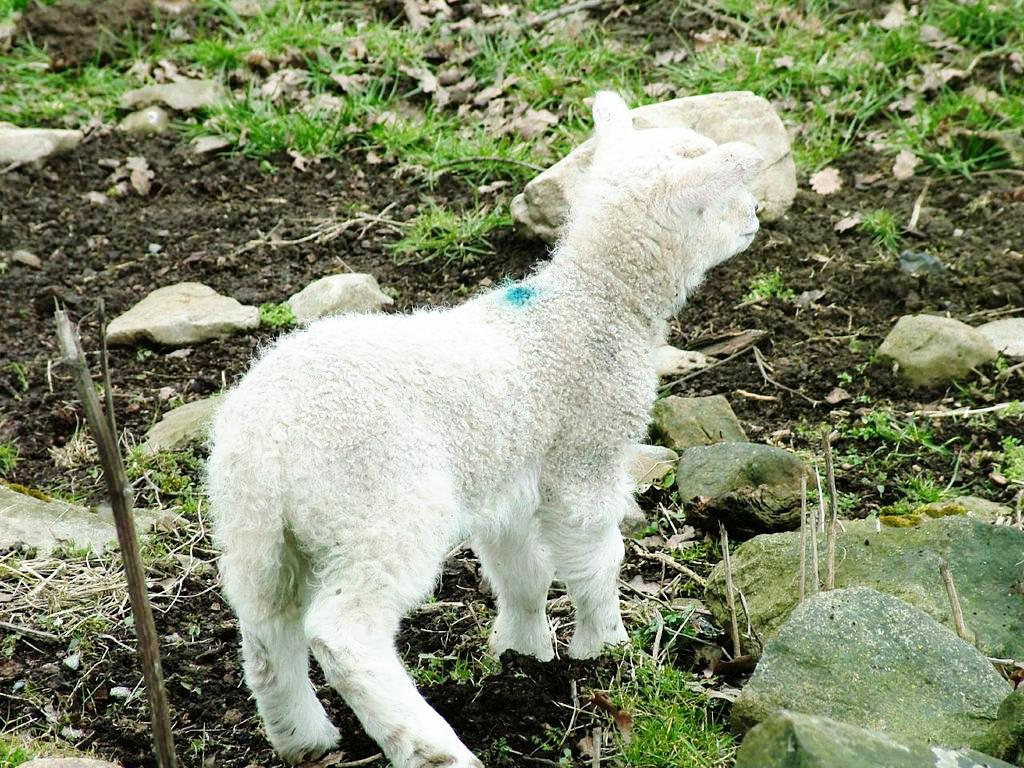Sheep: (204, 80, 782, 766)
